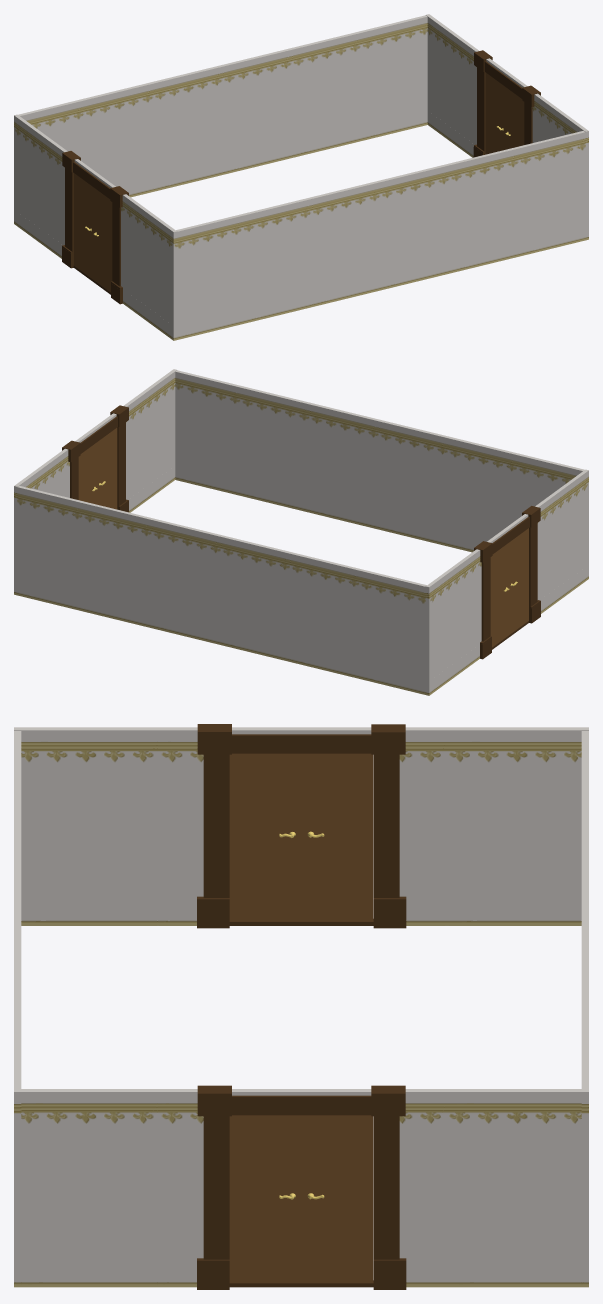
The model's file is Geo_Room6x4_2Doors_01.fbx.
The picture shows the model from 3 angles, top to bottom: view 1: azimuth 30°, elevation 25°; view 2: azimuth 150°, elevation 25°; view 3: azimuth 270°, elevation 25°; orthographic projection. The views are drawn at different scales.
Visible parts, largest first — view 1: geo_wallTopx6_01 (×2), geo_wallTopx4_01 (×2), geo_wallCulledx6_01 (×2), geo_door_02 (×2), geo_door_01 (×2), geo_wallCulledx4_01 (×2), geo_doorFrameSide_05 (×2), geo_doorFrameTop_01 (×2), geo_doorFrameSide_01; view 2: geo_wallTopx6_01 (×2), geo_wallTopx4_01 (×2), geo_wallCulledx6_01 (×2), geo_door_01 (×2), geo_door_02 (×2), geo_wallCulledx4_01 (×2), geo_doorFrameSide_01 (×2), geo_doorFrameTop_01 (×2), geo_doorFrameSide_05; view 3: geo_wallTopx4_01 (×2), geo_door_01 (×2), geo_door_02 (×2), geo_wallCulledx4_01 (×2), geo_wallTopx6_01 (×2), geo_doorFrameSide_05 (×2), geo_doorFrameSide_01 (×2), geo_doorFrameTop_01 (×2), geo_doorFrameSide_07 (×2), geo_doorFrameSide_03 (×2), geo_doorFrameSide_08 (×2), geo_doorFrameSide_04 (×2) (+1 smaller).
Boxes of the visible parts, box(x1,y1,x2,y2) form: geo_wallTopx6_01 (×2): box(18, 15, 585, 326); geo_wallTopx4_01 (×2): box(14, 14, 588, 325); geo_wallCulledx6_01 (×2): box(116, 110, 585, 340); geo_door_02 (×2): box(74, 73, 505, 279); geo_door_01 (×2): box(93, 87, 524, 292); geo_wallCulledx4_01 (×2): box(14, 111, 588, 340); geo_doorFrameSide_05 (×2): box(65, 67, 485, 251); geo_doorFrameTop_01 (×2): box(73, 61, 522, 198); geo_doorFrameSide_01: box(112, 202, 120, 286); geo_wallTopx6_01 (×2): box(17, 370, 584, 680); geo_wallTopx4_01 (×2): box(14, 369, 588, 681); geo_wallCulledx6_01 (×2): box(17, 466, 486, 694); geo_door_01 (×2): box(97, 428, 528, 634); geo_door_02 (×2): box(78, 442, 509, 647); geo_wallCulledx4_01 (×2): box(14, 466, 588, 695); geo_doorFrameSide_01 (×2): box(117, 422, 537, 606); geo_doorFrameTop_01 (×2): box(80, 416, 529, 553); geo_doorFrameSide_05: box(481, 557, 490, 641); geo_wallTopx4_01 (×2): box(14, 727, 588, 1261); geo_door_01 (×2): box(229, 753, 301, 1283); geo_door_02 (×2): box(301, 753, 373, 1283); geo_wallCulledx4_01 (×2): box(21, 899, 581, 1287); geo_wallTopx6_01 (×2): box(14, 731, 588, 1261); geo_doorFrameSide_05 (×2): box(373, 754, 399, 1259); geo_doorFrameSide_01 (×2): box(203, 754, 229, 1259); geo_doorFrameTop_01 (×2): box(232, 734, 371, 1115); geo_doorFrameSide_07 (×2): box(371, 724, 405, 1116); geo_doorFrameSide_03 (×2): box(197, 724, 231, 1116); geo_doorFrameSide_08 (×2): box(373, 902, 406, 1289); geo_doorFrameSide_04 (×2): box(197, 902, 229, 1289).
Bounding box in the file's own units: 608 × 151 × 400.
5 materials, 1 textured.
